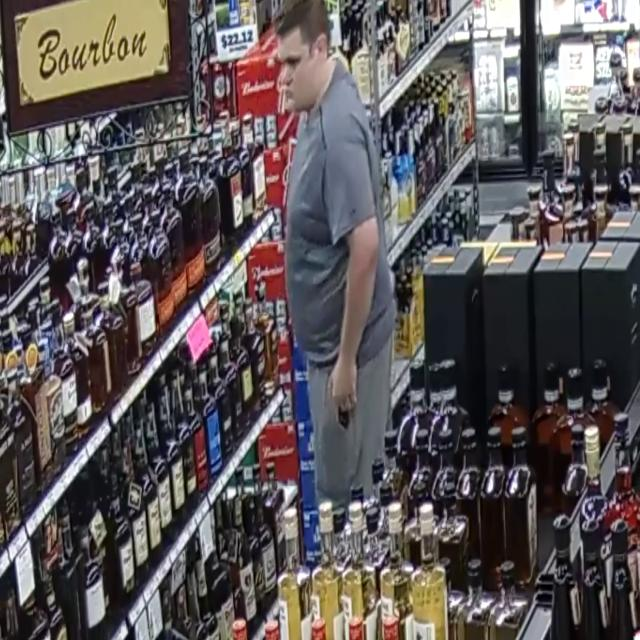Product: (317, 366, 354, 452)
shoplifting: (224, 0, 469, 587)
